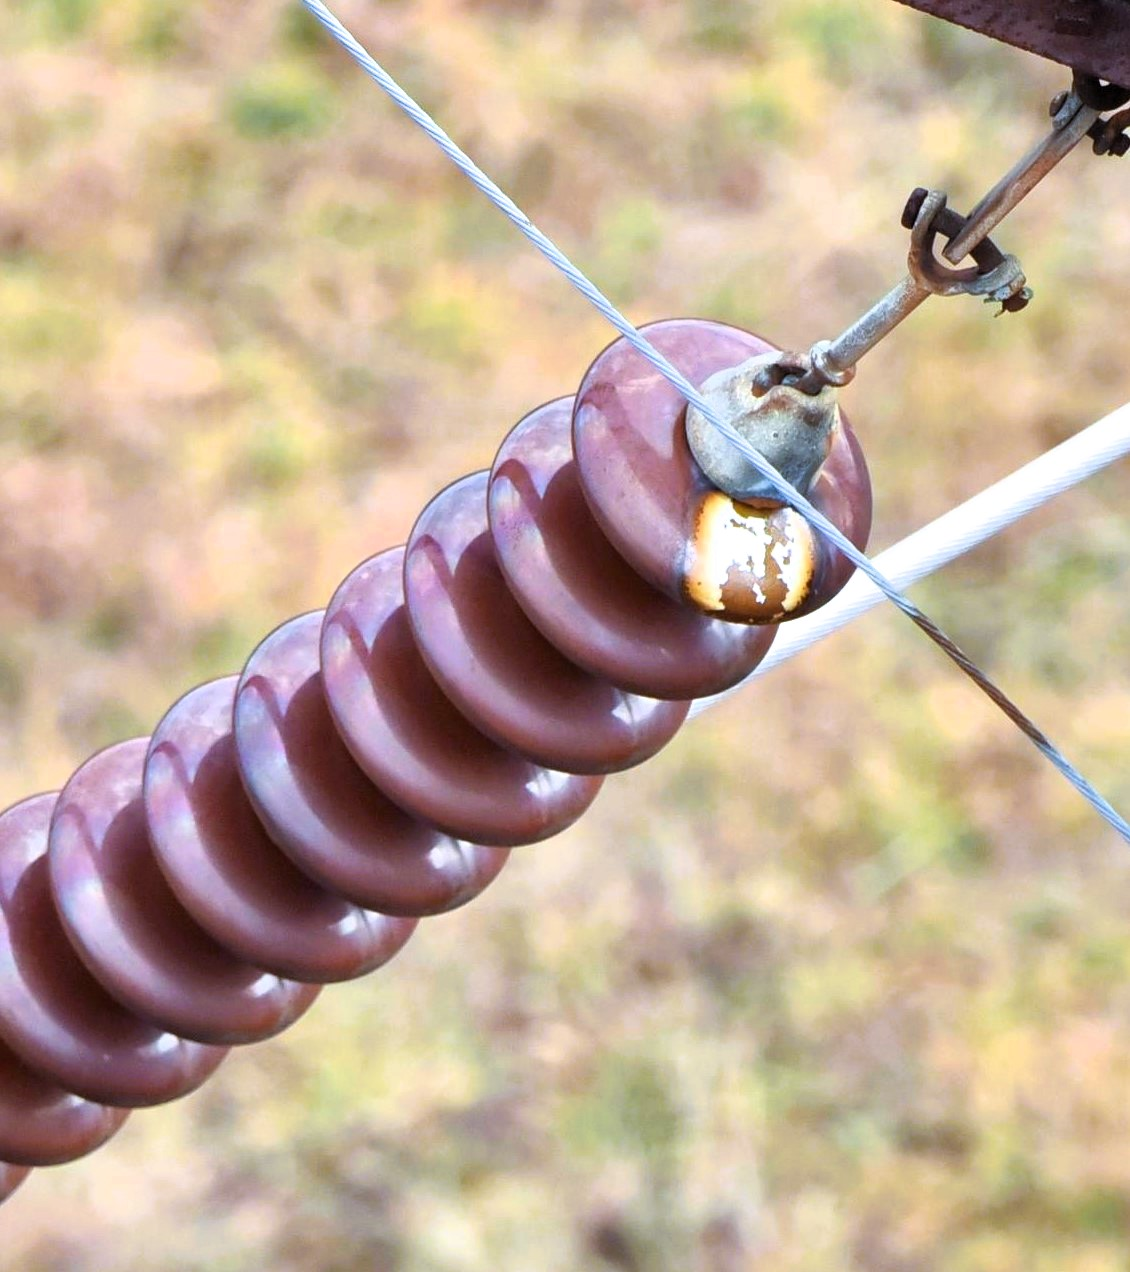Insulator flashover: (565, 303, 881, 629)
